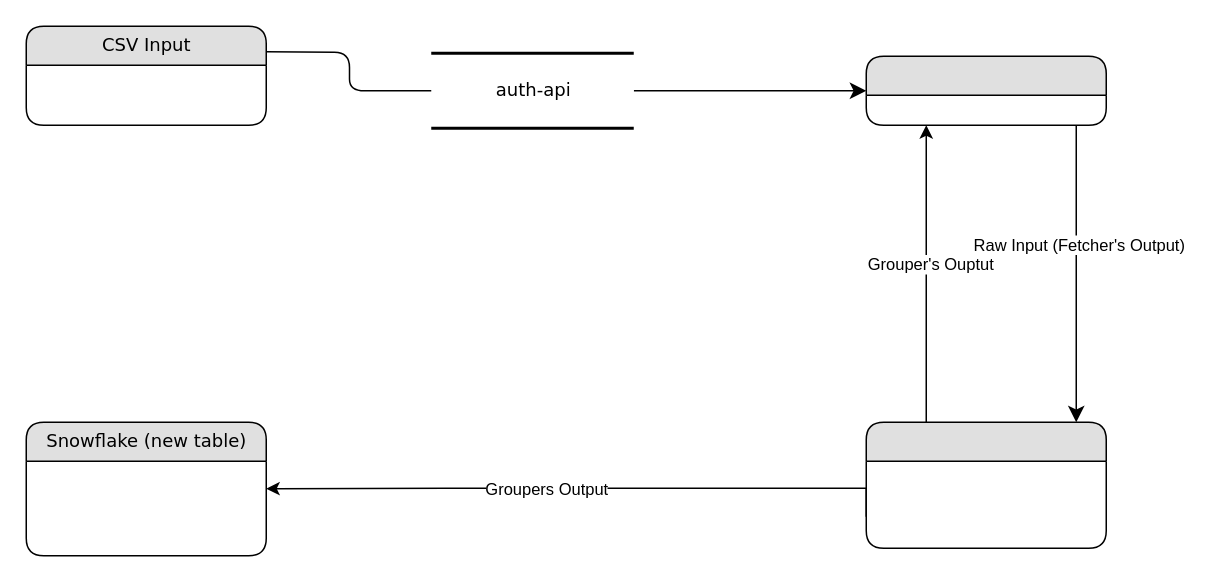
This 1211x582 diagram has some shape labels left out. The shapes that lost their labels are listed below. From the top down, each one's centre as x and y in pixels, then its label:
At point 985,90: "Google Cloud".
At point 985,484: "Job Server".
